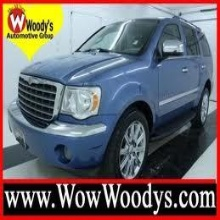no damage: (7, 15, 213, 179)
